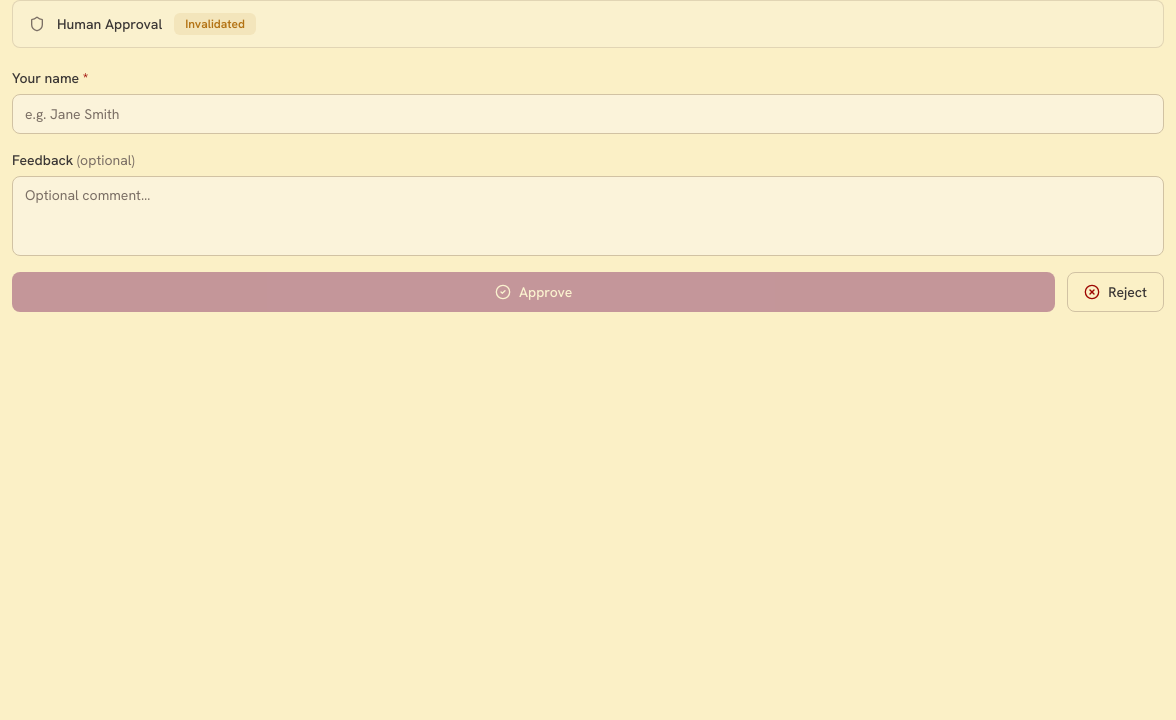
it: <ApprovalPanel> — reject flow › shows reject form when reject toggle is clicked
Click the button with test id "reject-toggle-btn".
click(1116, 292)  # box [1067,272,1164,312]
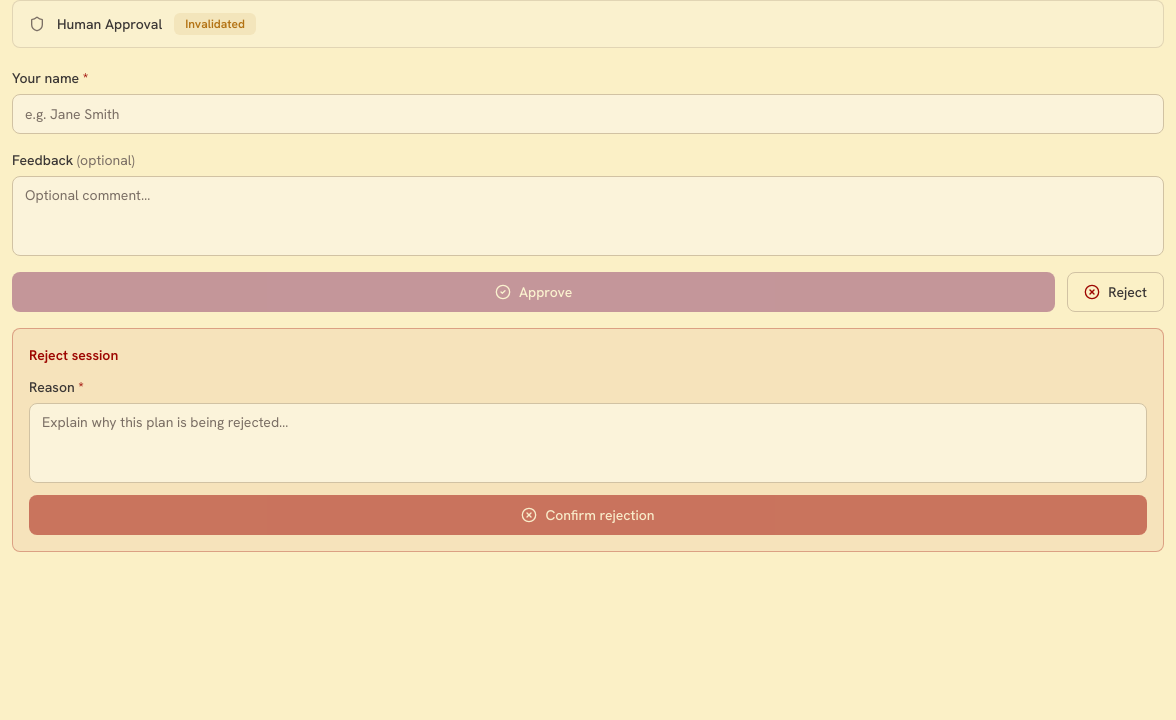
Check: the text box with test id "reject-feedback-input" is shown, box [29,403,1147,483]
